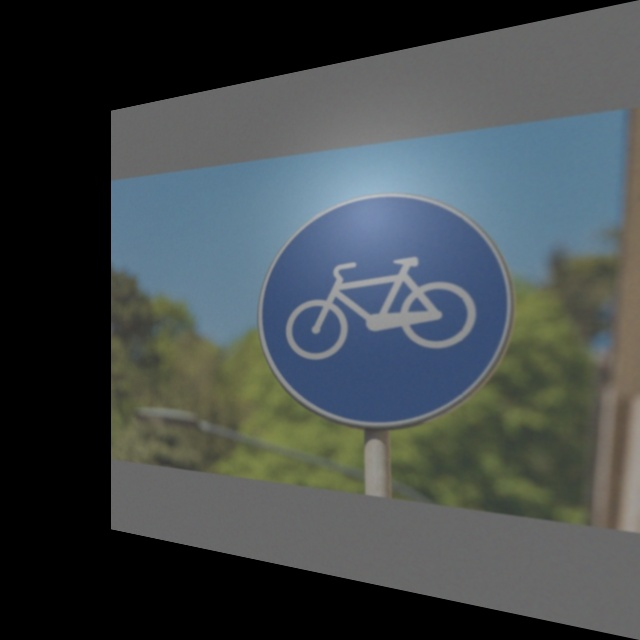Compulsory_Cycle_Track: (259, 180, 515, 443)
